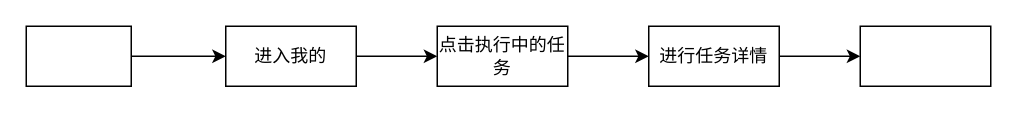
The diagram is 1017 pixels wide and 113 high, and some of its shapes have lost their labels. The shapes that lost their labels are listed below. From the top down, each one's centre as x and y in pixels, then its label:
point (78, 55): 进入小程序
point (925, 55): 填写内容提交任务
